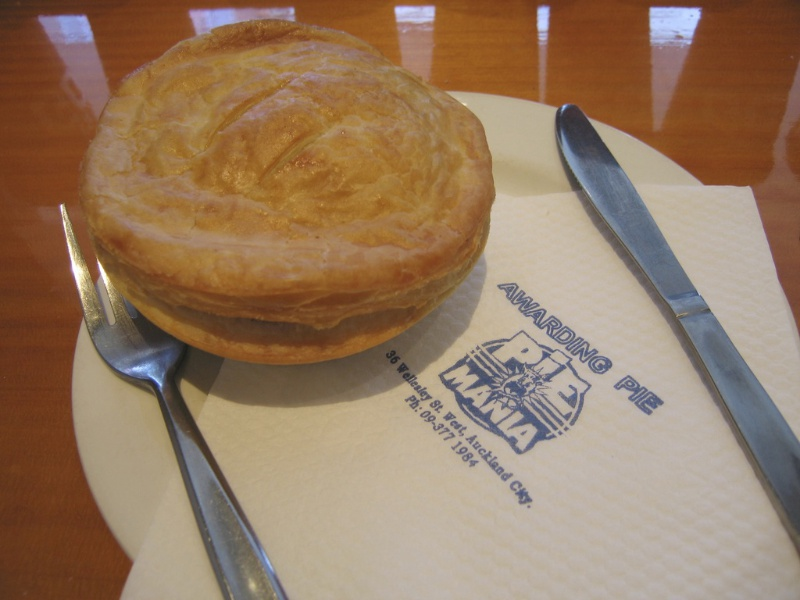knife: (553, 92, 800, 567)
